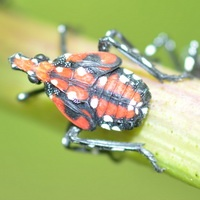insect: (9, 30, 185, 171)
